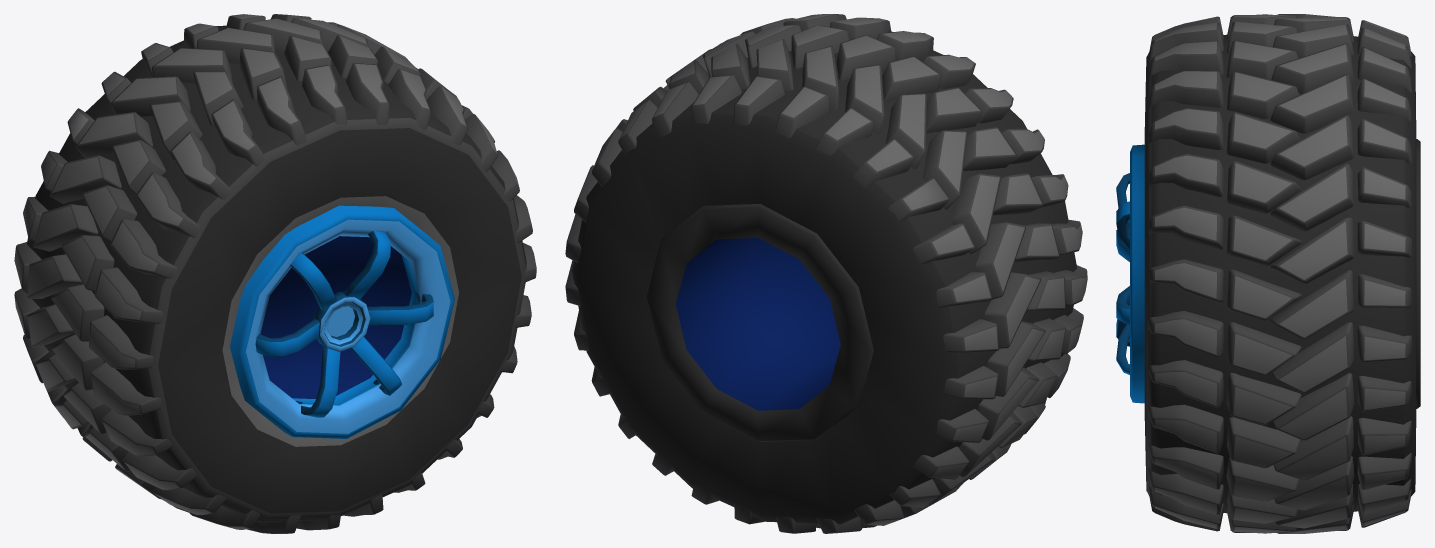
Rendered from wheel_08.fbx.
The picture shows the model from 3 angles, left to right: view 1: azimuth 30°, elevation 25°; view 2: azimuth 150°, elevation 25°; view 3: azimuth 270°, elevation 25°; orthographic projection. The views are drawn at different scales.
Visible parts, largest first — view 1: wheel_08; view 2: wheel_08; view 3: wheel_08.
Part boxes in pixels (x1=…): wheel_08: x1=14, y1=14, x2=536, y2=533; wheel_08: x1=565, y1=14, x2=1087, y2=533; wheel_08: x1=1116, y1=14, x2=1420, y2=533.
Bounding box in the file's own units: 118 × 118 × 68.95.
